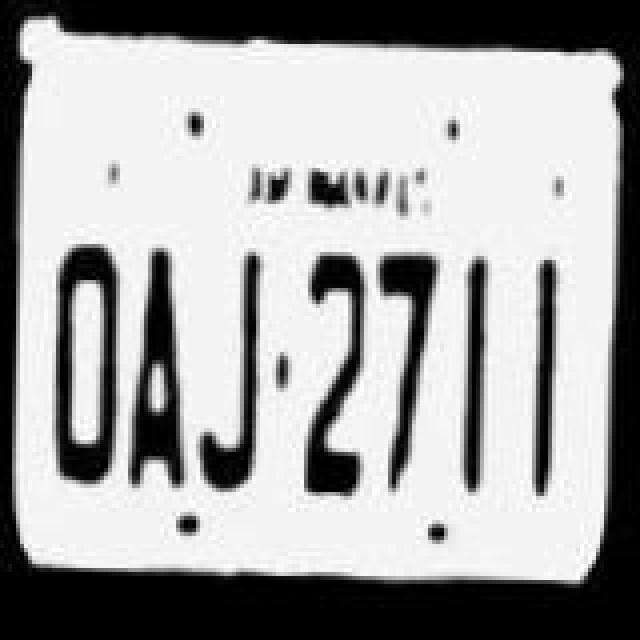1: (522, 250, 578, 514), (454, 252, 510, 500)
2: (304, 246, 380, 498)
7: (378, 248, 450, 500)
A: (126, 242, 198, 494)
J: (198, 238, 278, 506)
O: (46, 238, 126, 494)
